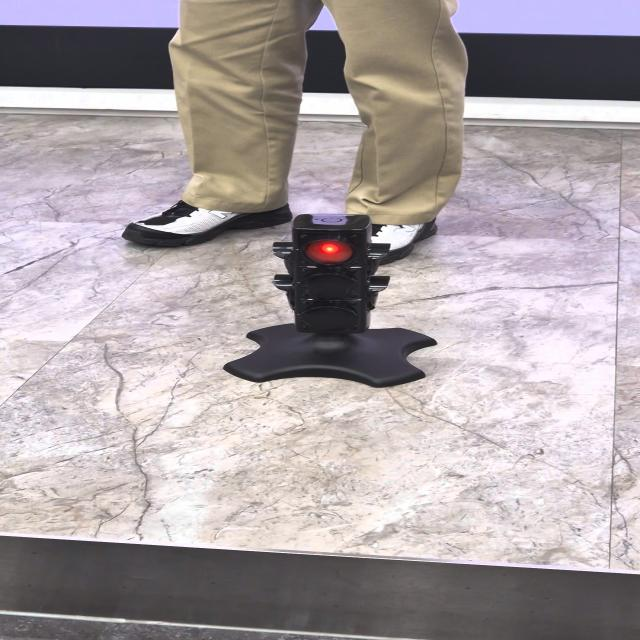red_light: (305, 241, 353, 263)
